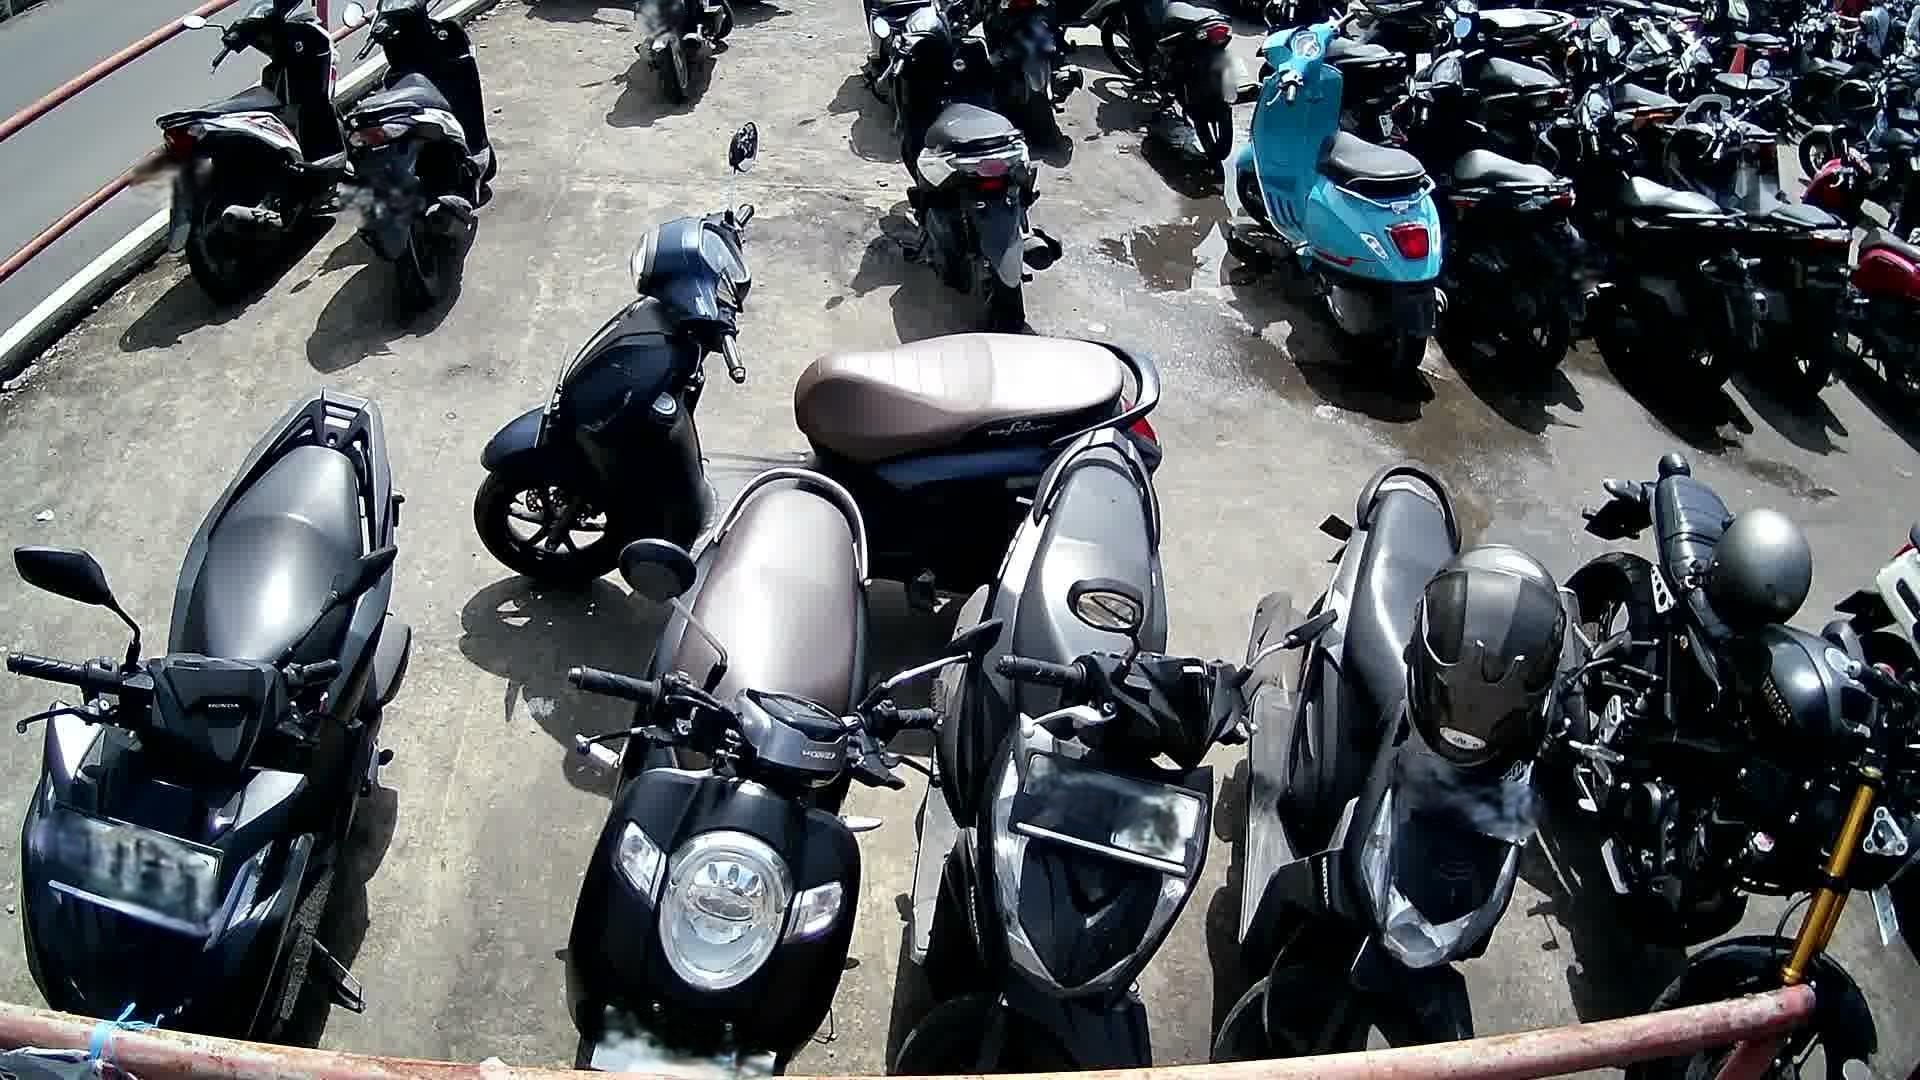motorcycle: (474, 122, 1163, 593), (5, 393, 412, 1043), (889, 427, 1267, 1080), (1215, 462, 1598, 1080), (564, 469, 941, 1080), (1558, 452, 1920, 1080), (1236, 10, 1450, 392), (1531, 69, 1773, 392), (1384, 14, 1597, 377), (1654, 92, 1874, 402), (872, 0, 1062, 328), (157, 0, 340, 304), (340, 0, 500, 308), (1798, 130, 1920, 412)
